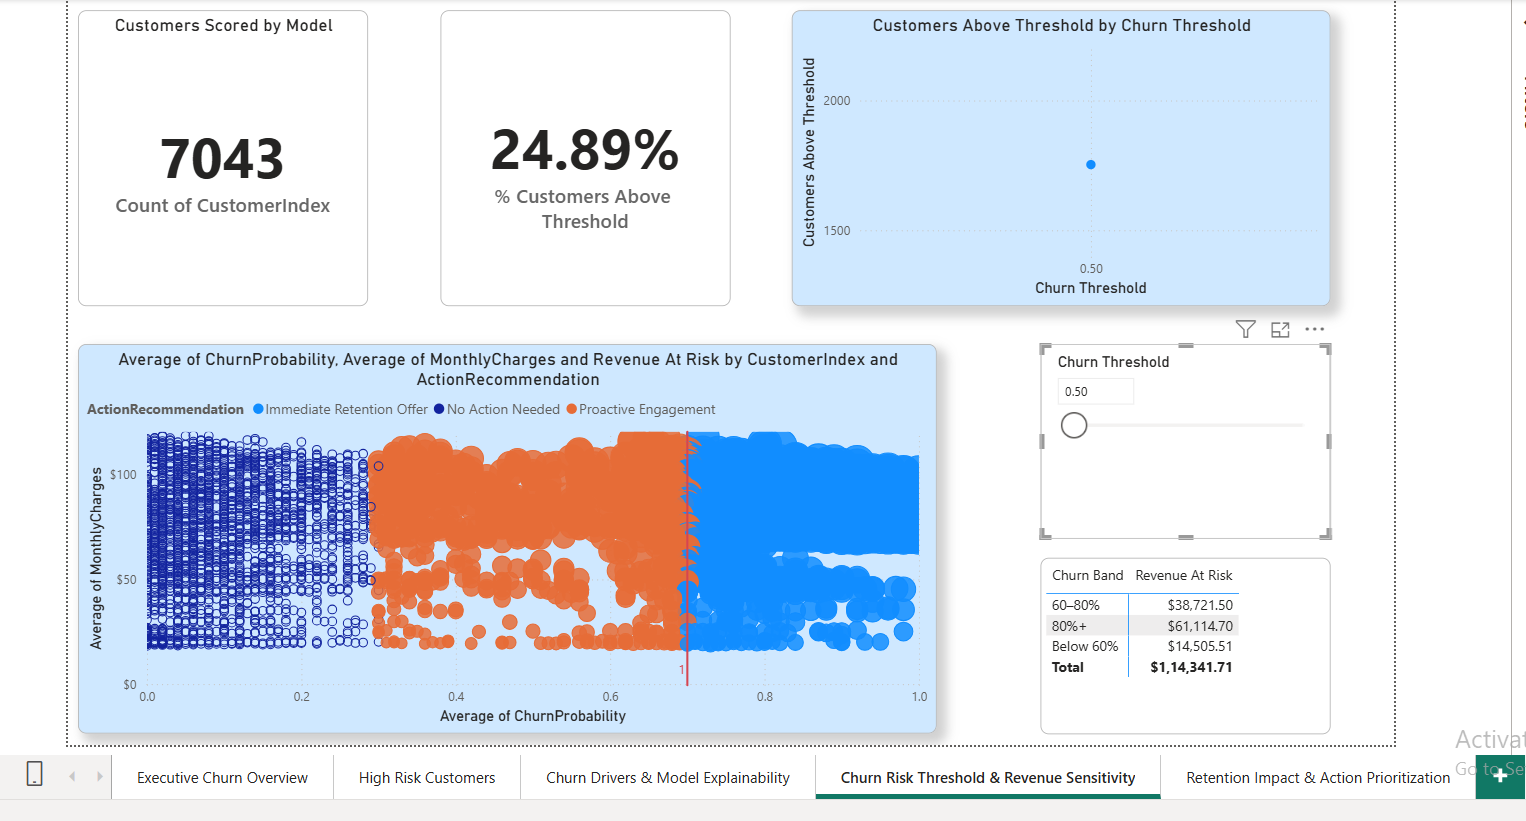

What the dashboard file says about the page in this screenshot:
{"tool":"powerbi","page":{"name":"Churn Risk Threshold & Revenue Sensitivity","canvas":[1280,720],"ordinal":3},"visuals":[{"type":"card","title":"Customers Scored by Model","fields":{"Values":["CountNonNull(customer_churn_predictions_enriched.CustomerIndex)"]},"box":[9.6,11,279.9,285.4],"z":0},{"type":"card","fields":{"Values":["Churn Threshold.% Customers Above Threshold"]},"box":[359.5,11,279.9,285.4],"z":1000},{"type":"scatterChart","fields":{"X":["Avg(customer_churn_predictions_enriched.ChurnProbability)"],"Y":["Avg(customer_churn_predictions_enriched.MonthlyCharges)"],"Size":["customer_churn_predictions_enriched.Revenue At Risk"],"Category":["customer_churn_predictions_enriched.CustomerIndex"],"Series":["customer_churn_predictions_enriched.ActionRecommendation"]},"box":[9.6,333.4,828.8,376],"z":2000},{"type":"pivotTable","fields":{"Rows":["customer_churn_predictions_enriched.Churn Band"],"Values":["customer_churn_predictions_enriched.Revenue At Risk"]},"box":[938.6,539.3,279.9,170.2],"z":3000},{"type":"slicer","fields":{"Values":["Churn Threshold.Churn Threshold"]},"box":[938.6,333.4,279.9,188],"z":4000},{"type":"lineChart","fields":{"Category":["Churn Threshold.Churn Threshold"],"Y":["customer_churn_predictions_enriched.Customers Above Threshold"]},"box":[698.5,11,520.1,285.4],"z":5000}]}

Visuals, with their boxes on the page's 1280x720 design canvas (x1, y1, x2, y2). These are canvas units, not pixel positions in the 1526x821 screenshot, which may show the page scaled, cropped or inside an application window:
"Customers Scored by Model" card: pyautogui.locateOnScreen(10, 11, 290, 296)
card - Churn Threshold.% Customers Above Threshold: pyautogui.locateOnScreen(360, 11, 639, 296)
scatterChart - Avg(customer_churn_predictions_enriched.ChurnProbability) x Avg(customer_churn_predictions_enriched.MonthlyCharges): pyautogui.locateOnScreen(10, 333, 838, 709)
pivotTable - customer_churn_predictions_enriched.Churn Band x customer_churn_predictions_enriched.Revenue At Risk: pyautogui.locateOnScreen(939, 539, 1218, 710)
slicer - Churn Threshold.Churn Threshold: pyautogui.locateOnScreen(939, 333, 1218, 521)
lineChart - Churn Threshold.Churn Threshold x customer_churn_predictions_enriched.Customers Above Threshold: pyautogui.locateOnScreen(698, 11, 1219, 296)
